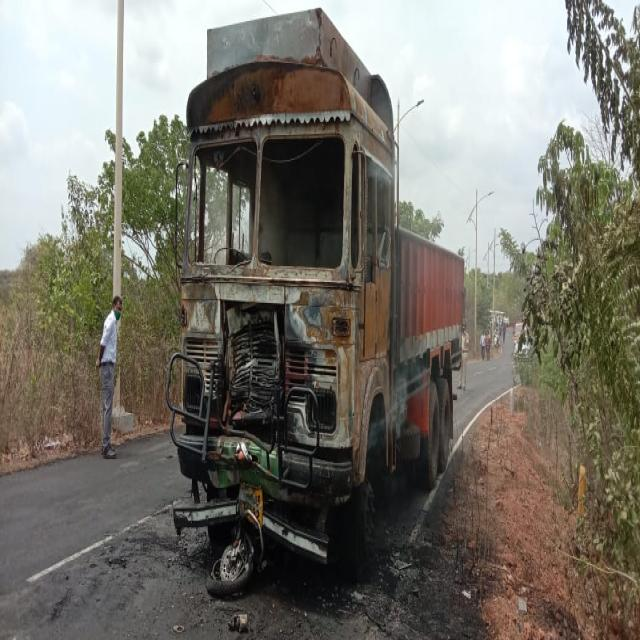accident: (166, 8, 464, 578)
